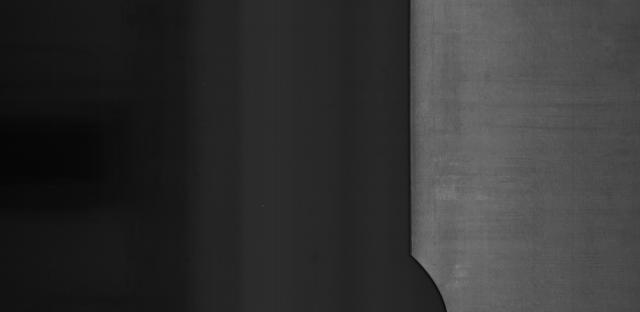crescent_gap: (392, 248, 459, 312)
